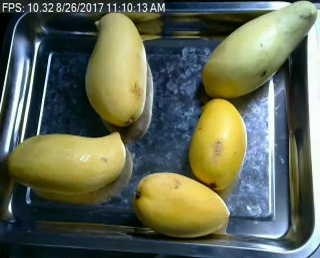Mango: (195, 1, 315, 98), (79, 9, 149, 128), (10, 129, 131, 194), (133, 171, 229, 238), (183, 98, 251, 188)
